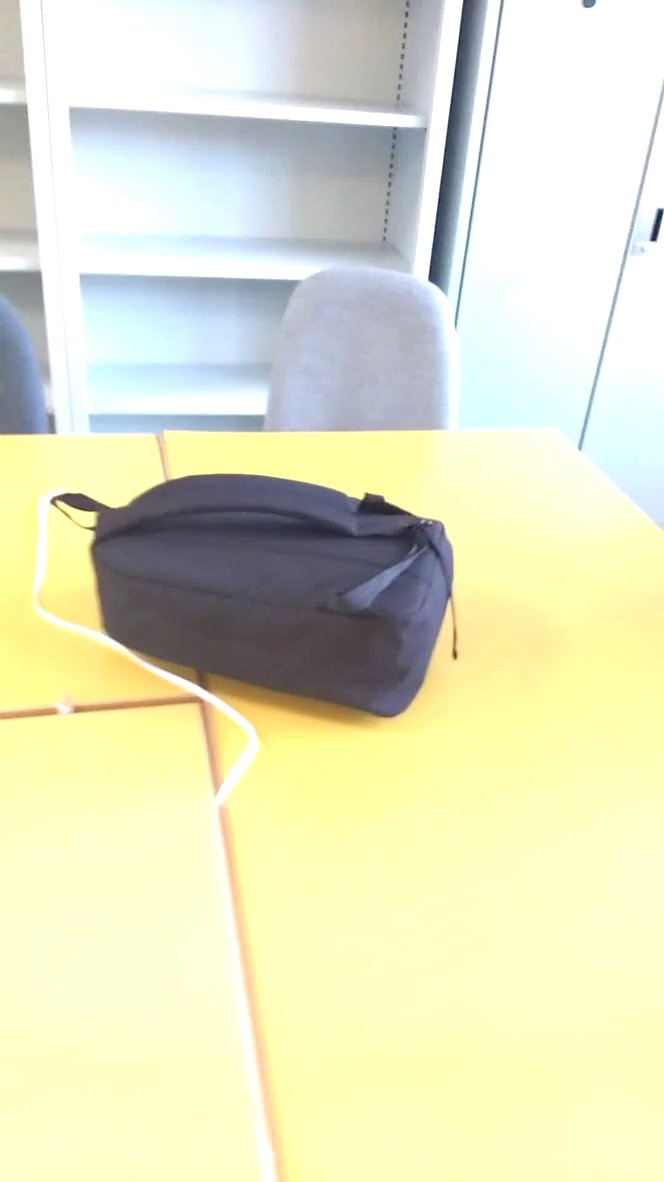bag: (39, 462, 474, 726)
chair: (248, 258, 474, 456)
